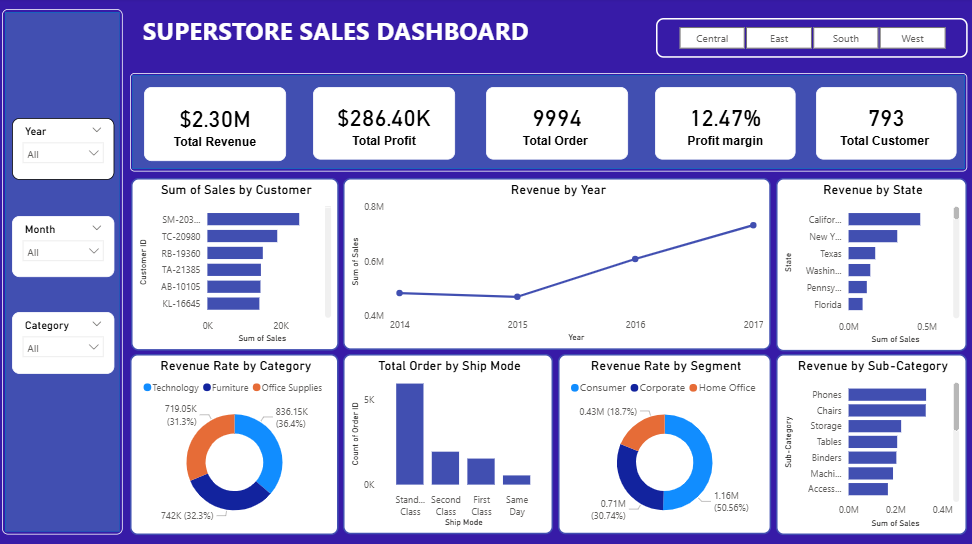

What the dashboard file says about the page in this screenshot:
{"tool":"powerbi","page":{"name":"Page 1","canvas":[1280,720],"ordinal":0},"visuals":[{"type":"shape","box":[173.4,98.3,1095.9,128.7],"z":0},{"type":"card","fields":{"Values":["Sum(Superstore.Profit)"]},"box":[413,116.2,185.9,94.7],"z":1000},{"type":"card","fields":{"Values":["Sum(Superstore.Sales)"]},"box":[191.3,116.2,185.9,96.5],"z":2000},{"type":"card","fields":{"Values":["CountNonNull(Superstore.Order ID)"]},"box":[638.2,116.2,185.9,94.7],"z":3000},{"type":"card","fields":{"Values":["Measure.Profit margin"]},"box":[859.9,116.2,184.1,94.7],"z":4000},{"type":"card","fields":{"Values":["Count(Superstore.Customer ID)"]},"box":[1070.8,116.2,184.1,94.7],"z":5000},{"type":"shape","box":[5.8,14.4,158.4,688.3],"z":6000},{"type":"lineChart","title":"Revenue by Year","fields":{"Category":["Superstore.Order Date.Variation.Date Hierarchy.Year"],"Y":["Sum(Superstore.Sales)"]},"box":[452.2,236.2,560.2,224.6],"z":7000},{"type":"clusteredBarChart","title":"Revenue by State","fields":{"Y":["Sum(Superstore.Sales)"],"Category":["Superstore.State"]},"box":[1018.3,235,250,226.7],"z":8000},{"type":"clusteredBarChart","title":"Sum of Sales by Customer","fields":{"Category":["Superstore.Customer ID"],"Y":["Sum(Superstore.Sales)"]},"box":[174,235.5,272,226],"z":9000},{"type":"clusteredBarChart","title":"Revenue by Sub-Category","fields":{"Y":["Sum(Superstore.Sales)"],"Category":["Superstore.Sub-Category"]},"box":[1018.3,466.7,250,236.7],"z":10000},{"type":"donutChart","title":"Revenue Rate by Segment","fields":{"Category":["Superstore.Segment"],"Y":["Sum(Superstore.Sales)"]},"box":[733,466.6,279.4,236.2],"z":11000},{"type":"donutChart","title":"Revenue Rate by Category","fields":{"Category":["Superstore.Category"],"Y":["Sum(Superstore.Sales)"]},"box":[173.3,466.7,273.3,236.7],"z":12000},{"type":"columnChart","title":"Total Order by Ship Mode","fields":{"Category":["Superstore.Ship Mode"],"Y":["CountNonNull(Superstore.Order ID)"]},"box":[452.3,466.6,275.3,236],"z":13000},{"type":"slicer","fields":{"Values":["Superstore.Region"]},"box":[861.7,26.8,407.6,51.8],"z":14000},{"type":"slicer","fields":{"Values":["Superstore.Order Date.Variation.Date Hierarchy.Year"]},"box":[18.2,157,133.9,80.6],"z":15000},{"type":"slicer","fields":{"Values":["Superstore.Order Date.Variation.Date Hierarchy.Month"]},"box":[18.2,285.9,134,80],"z":16000},{"type":"slicer","fields":{"Values":["Superstore.Category"]},"box":[18.2,410.4,133.9,80.6],"z":17000},{"type":"textbox","box":[184.3,14.4,537.1,64.8],"z":18000}]}

Visuals, with their boxes in screenshot pixels (x1, y1, x2, y2), scaled from the page's 1280x720 canvas onto the 972x544 screenshot:
shape: region(132, 74, 964, 172)
card - Sum(Superstore.Profit): region(314, 88, 455, 159)
card - Sum(Superstore.Sales): region(145, 88, 286, 161)
card - CountNonNull(Superstore.Order ID): region(485, 88, 626, 159)
card - Measure.Profit margin: region(653, 88, 793, 159)
card - Count(Superstore.Customer ID): region(813, 88, 953, 159)
shape: region(4, 11, 125, 531)
"Revenue by Year" lineChart: region(343, 178, 769, 348)
"Revenue by State" clusteredBarChart: region(773, 178, 963, 349)
"Sum of Sales by Customer" clusteredBarChart: region(132, 178, 339, 349)
"Revenue by Sub-Category" clusteredBarChart: region(773, 353, 963, 531)
"Revenue Rate by Segment" donutChart: region(557, 353, 769, 531)
"Revenue Rate by Category" donutChart: region(132, 353, 339, 531)
"Total Order by Ship Mode" columnChart: region(343, 353, 553, 531)
slicer - Superstore.Region: region(654, 20, 964, 59)
slicer - Superstore.Order Date.Variation.Date Hierarchy.Year: region(14, 119, 116, 180)
slicer - Superstore.Order Date.Variation.Date Hierarchy.Month: region(14, 216, 116, 276)
slicer - Superstore.Category: region(14, 310, 116, 371)
textbox: region(140, 11, 548, 60)
